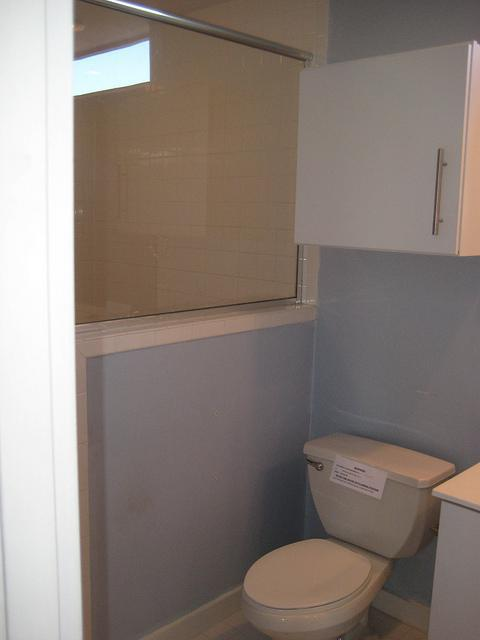Ducha: (0, 11, 304, 639)
Sanitario: (229, 440, 457, 638)
